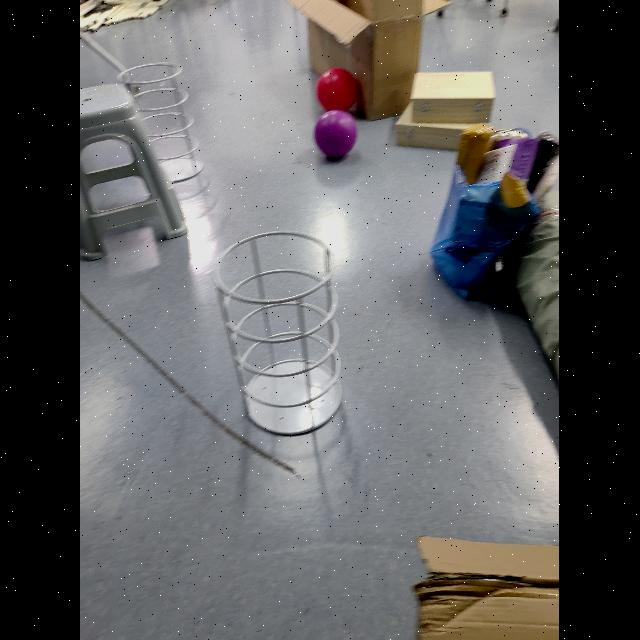S: (210, 229, 346, 439)
